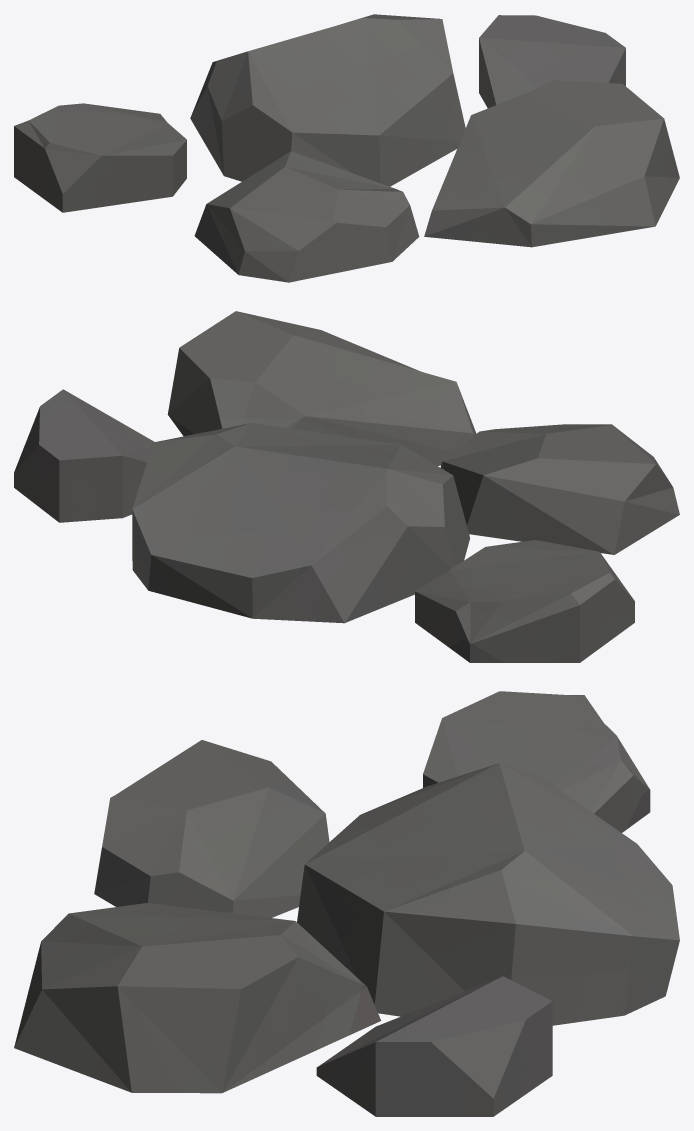
The model's file is Rock_Pile_02.fbx.
The picture shows the model from 3 angles, top to bottom: view 1: azimuth 30°, elevation 25°; view 2: azimuth 150°, elevation 25°; view 3: azimuth 270°, elevation 25°; orthographic projection. The views are drawn at different scales.
Parts seen in each view (by area): view 1: SM_RockPile_01.mo; view 2: SM_RockPile_01.mo; view 3: SM_RockPile_01.mo.
Part boxes in pixels (bbox=[...]): SM_RockPile_01.mo: bbox=[14, 14, 679, 282]; SM_RockPile_01.mo: bbox=[14, 311, 679, 662]; SM_RockPile_01.mo: bbox=[14, 691, 679, 1116].
Size of the model in its own units: 171 by 30.42 by 136.
